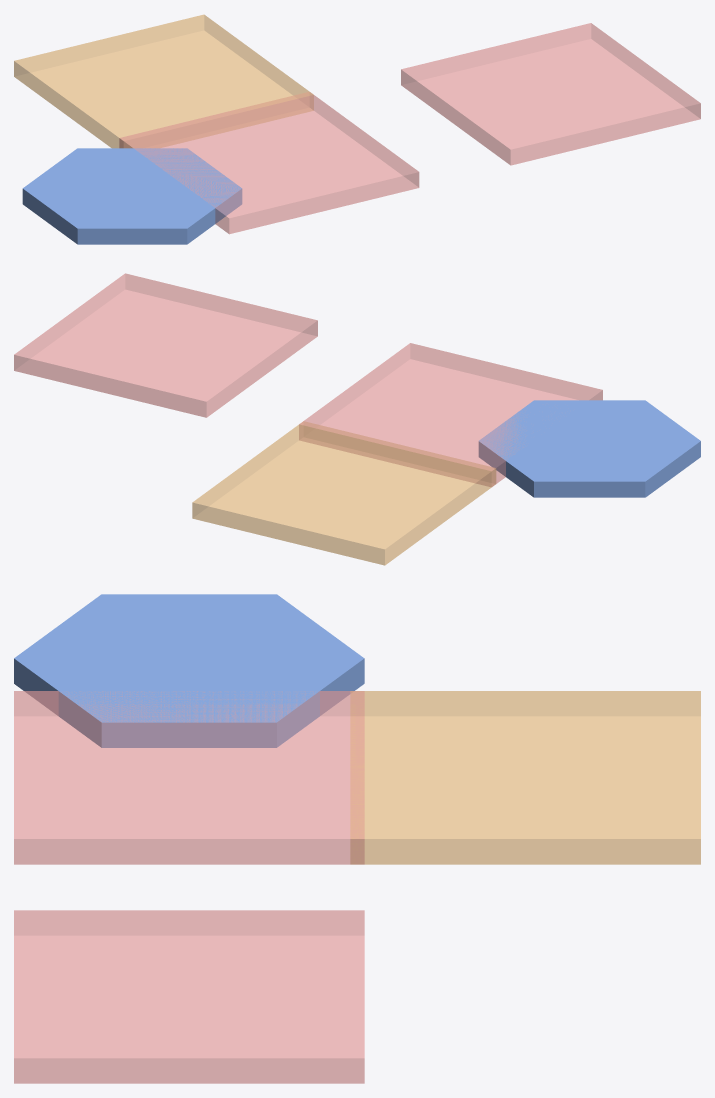
Rendered from treno_step5.glb.
3 renders of one model, top to bottom at view 1: azimuth 30°, elevation 25°; view 2: azimuth 150°, elevation 25°; view 3: azimuth 270°, elevation 25°, orthographic. The views are drawn at different scales.
Visible parts, largest first — view 1: quadrato_grande.001, quadrato_piccolo, quadrato_grande, esagono; view 2: quadrato_grande.001, quadrato_piccolo, quadrato_grande, esagono; view 3: quadrato_grande.001, quadrato_piccolo, quadrato_grande, esagono.
Part boxes in pixels (x1,y1,x2,y2): quadrato_grande.001: (401,23,700,165); quadrato_piccolo: (14,14,313,148); quadrato_grande: (119,92,419,234); esagono: (22,148,242,244); quadrato_grande.001: (14,273,317,417); quadrato_piccolo: (192,421,496,565); quadrato_grande: (299,343,602,486); esagono: (478,400,700,497); quadrato_grande.001: (14,910,364,1083); quadrato_piccolo: (350,691,700,864); quadrato_grande: (14,691,364,864); esagono: (14,594,364,747).
Size of the model in its own units: 3.13 by 0.08 by 1.96.
